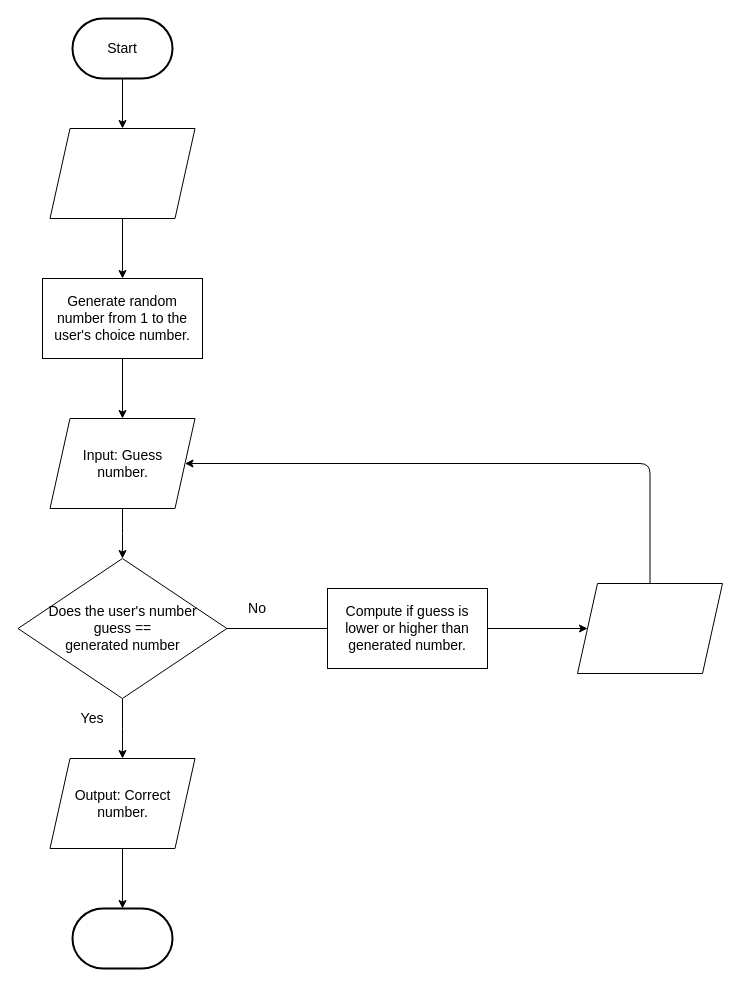
Image size: 740x986. Some labels were removed from this diagram. The shapes that lost their labels are listed below. From the top down, each one's box as (x1, y1, x2, y2) in pixels, then its label:
(49, 128, 195, 218): Input: Pick ceiling value.
(576, 582, 722, 674): Output: Wrong number, and if it's higher or lower than the number.
(71, 907, 173, 969): End
